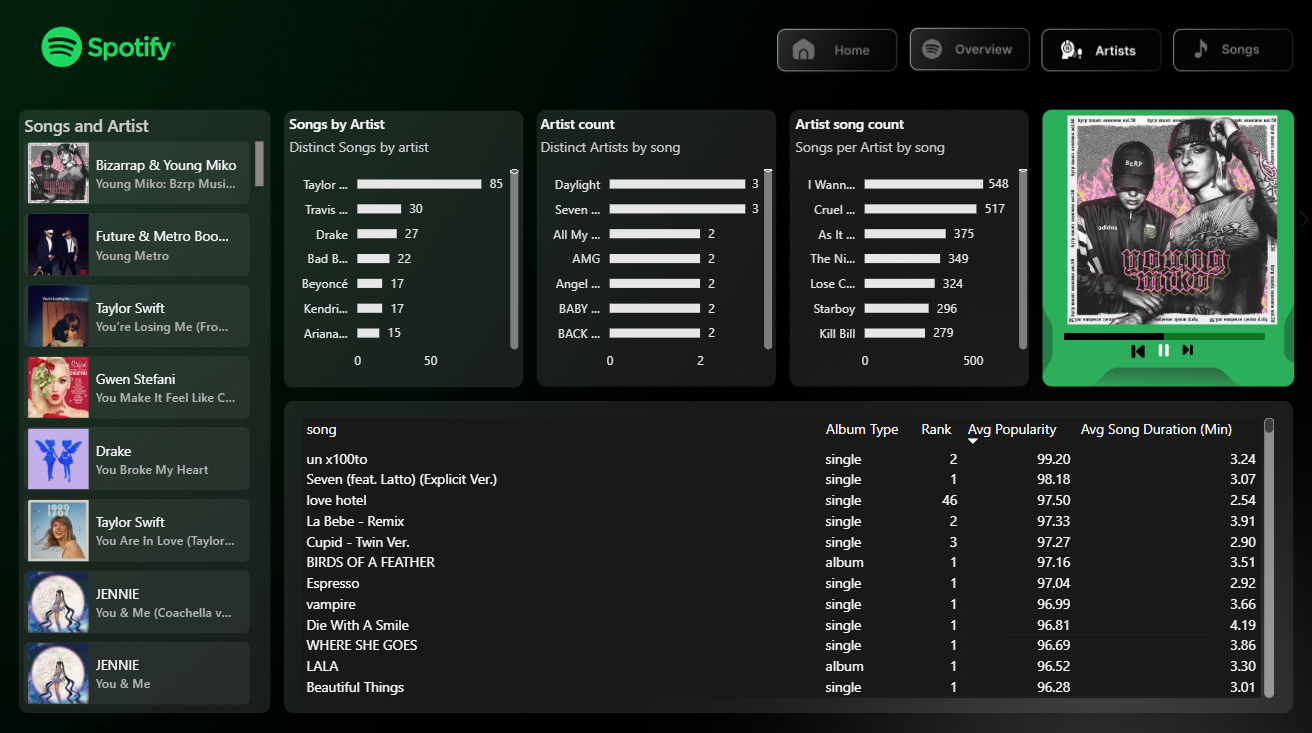

This screenshot's page, from the dashboard's own definition file:
{"tool":"powerbi","page":{"name":"Artist","canvas":[1280,720],"ordinal":2},"visuals":[{"type":"actionButton","box":[756.4,35,117,39.8],"z":0},{"type":"clusteredBarChart","title":" Songs by Artist","fields":{"Category":["Top-50 world.artist"],"Y":["Top-50 world.Distinct Songs"]},"box":[279.9,115.8,231.6,255.8],"z":1000},{"type":"actionButton","box":[886,34.3,117,39.8],"z":2000},{"type":"clusteredBarChart","title":"Artist count","fields":{"Category":["Top-50 world.song"],"Y":["Top-50 world.Distinct Artists"]},"box":[522.4,115.8,234,255.8],"z":3000},{"type":"actionButton","box":[1011.5,34.3,117,39.8],"z":4000},{"type":"actionButton","box":[1138.2,34.3,117,39.8],"z":5000},{"type":"advancedSlicerVisual","title":"Songs and Artist","fields":{"Values":["Top-50 world.song"]},"box":[995.3,98.7,284.7,238.9],"z":6000},{"type":"hundredPercentStackedBarChart","fields":{"Y":["Top-50 world.Avg Popularity","Top-50 world.Avg Popularity Clean"]},"box":[1027.8,295.3,203.9,63.9],"z":7000},{"type":"image","box":[1012.4,338,184.6,14.5],"z":8000},{"type":"image","box":[1064.3,338,176.1,10.9],"z":9000},{"type":"image","box":[1013.4,337.8,231.6,12.1],"z":10000},{"type":"clusteredBarChart","title":"Artist song count ","fields":{"Category":["Top-50 world.song"],"Y":["Top-50 world.Songs per Artist"]},"box":[768.5,115.8,234,255.8],"z":11000},{"type":"advancedSlicerVisual","title":"Songs and Artist","fields":{"Values":["Top-50 world.song"]},"box":[24.1,115.8,241.3,576.7],"z":12000},{"type":"tableEx","fields":{"Values":["Top-50 world.song","Top-50 world.album_type","Top-50 world.Best Rank","Top-50 world.Avg Popularity","Top-50 world.Avg Song Duration (Min)"]},"box":[290.8,404.2,949.5,279.9],"z":13000}]}

Visuals, with their boxes on the page's 1280x720 design canvas (x1, y1, x2, y2). These are canvas units, not pixel positions in the 1312x733 screenshot, which may show the page scaled, cropped or inside an application window:
actionButton: <box>756,35,873,75</box>
" Songs by Artist" clusteredBarChart: <box>280,116,512,372</box>
actionButton: <box>886,34,1003,74</box>
"Artist count" clusteredBarChart: <box>522,116,756,372</box>
actionButton: <box>1012,34,1128,74</box>
actionButton: <box>1138,34,1255,74</box>
"Songs and Artist" advancedSlicerVisual: <box>995,99,1280,338</box>
hundredPercentStackedBarChart - Top-50 world.Avg Popularity x Top-50 world.Avg Popularity Clean: <box>1028,295,1232,359</box>
image: <box>1012,338,1197,352</box>
image: <box>1064,338,1240,349</box>
image: <box>1013,338,1245,350</box>
"Artist song count " clusteredBarChart: <box>768,116,1002,372</box>
"Songs and Artist" advancedSlicerVisual: <box>24,116,265,692</box>
tableEx - Top-50 world.song x Top-50 world.album_type: <box>291,404,1240,684</box>
